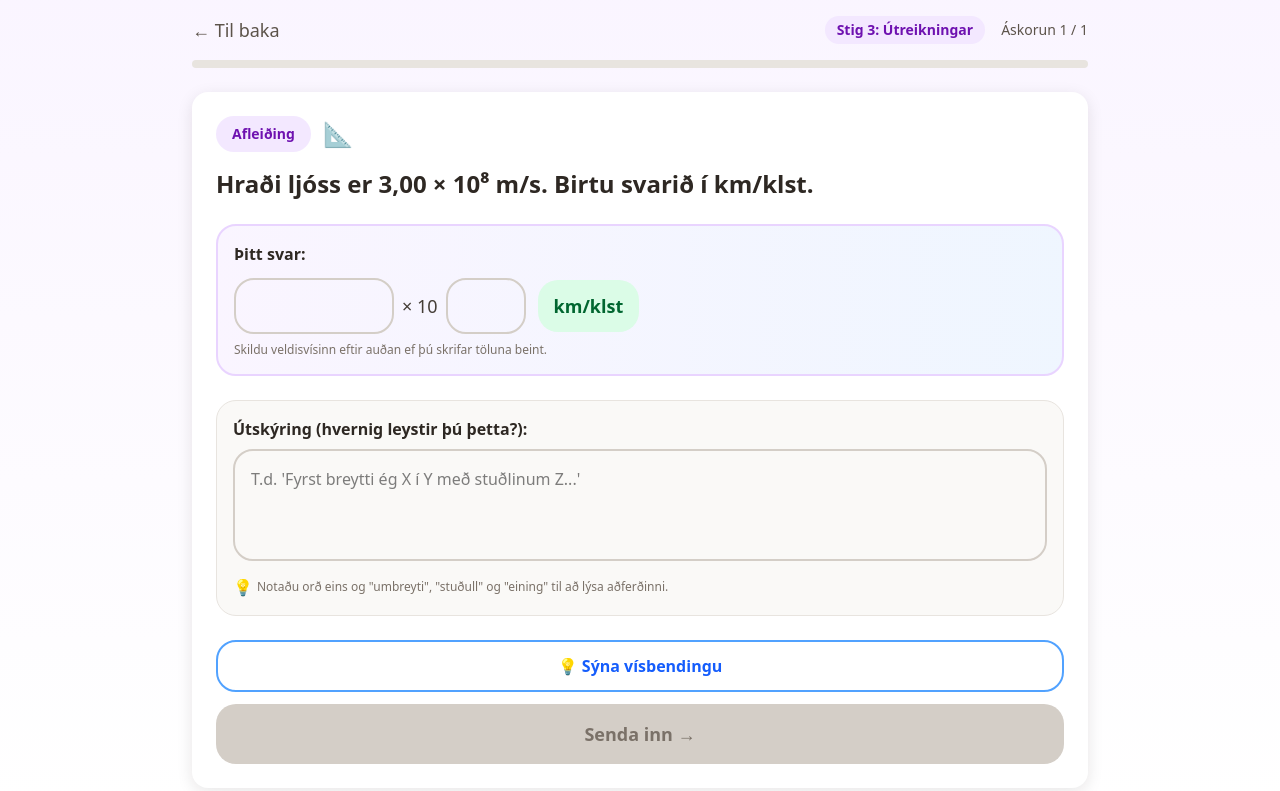
it: the scientific-notation item takes digits and a power of ten › grades 1,08 × 10^ wrong
In the field named "Þitt svar": (314, 306) [234,278,394,334], type "1,08"
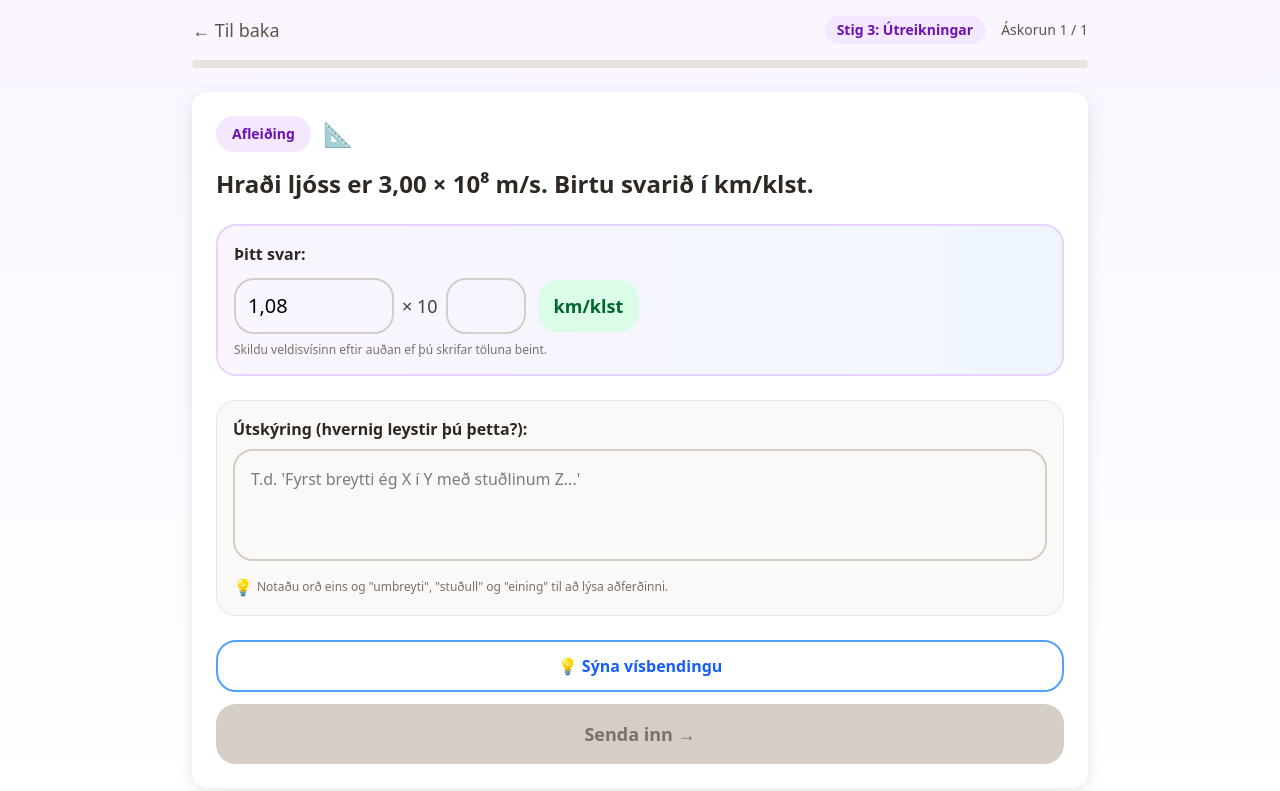
In the text box labelled "Útskýring (hvernig leystir þú þetta?):": (640, 505) [233,449,1047,561], type "Ég umbreytti einingunum skref fyrir skref með stuðlum."
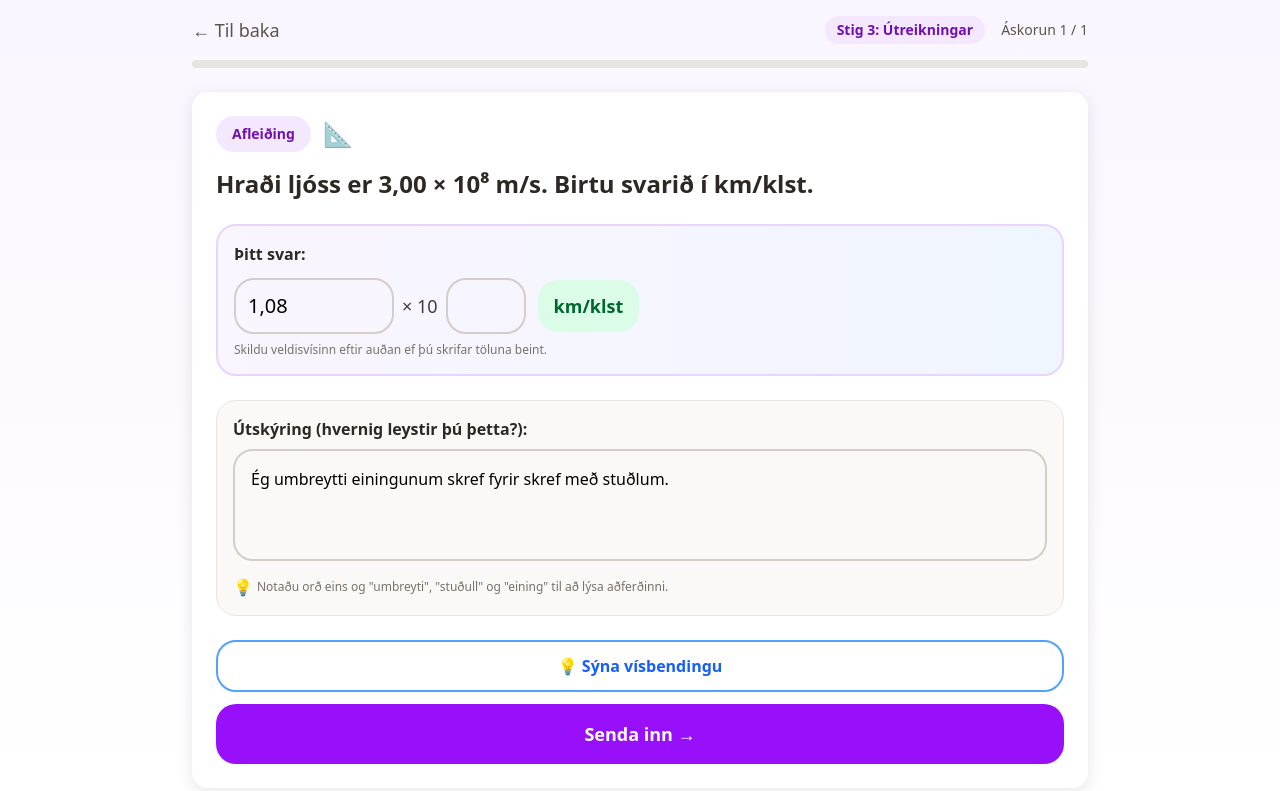
Click the button "Senda inn →": (640, 734) [216,704,1064,764]
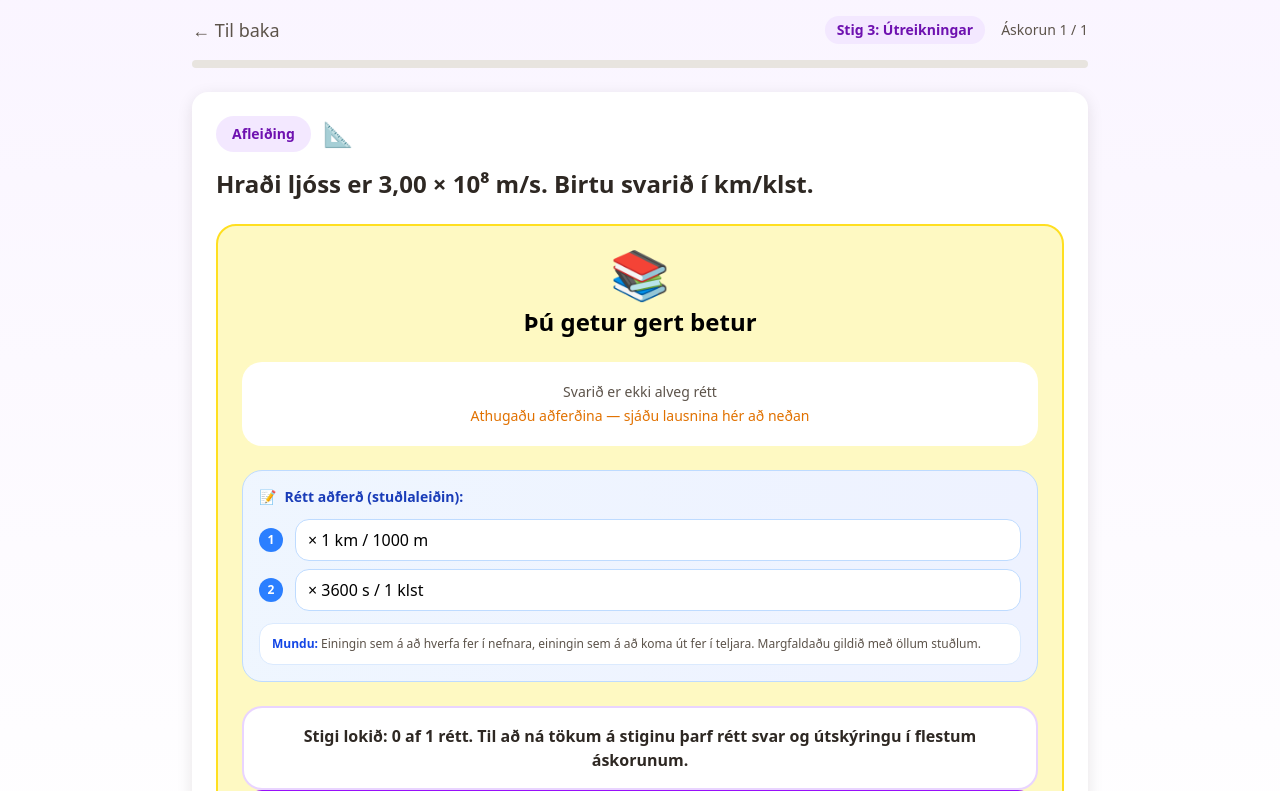
Now the text "Svarið er ekki alveg rétt" is shown, box [563,382,717,401]
